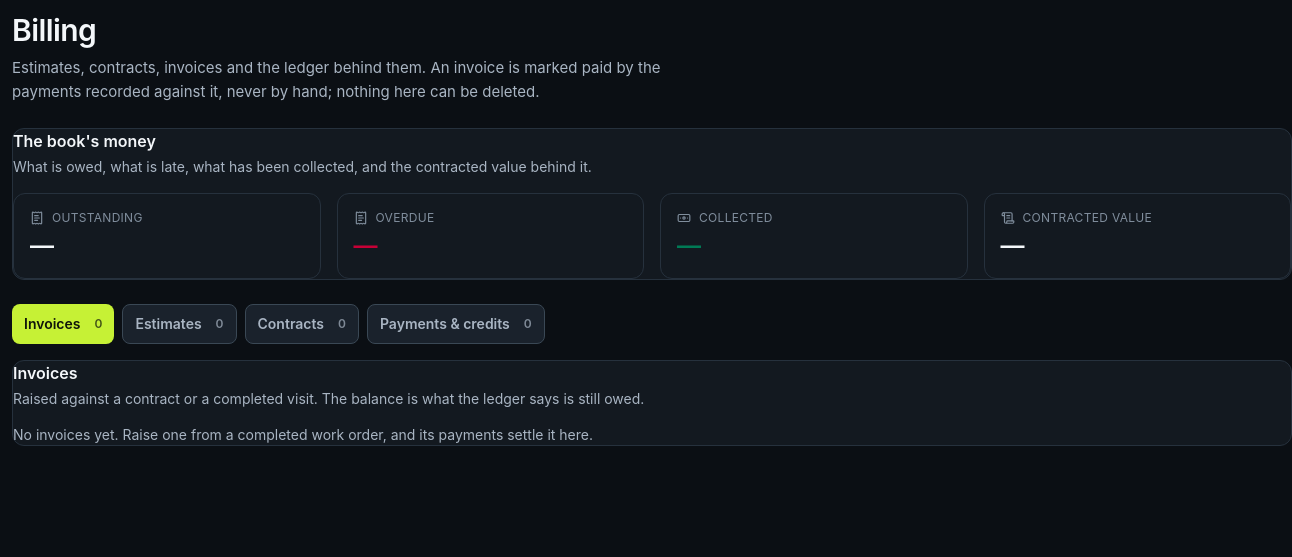
Test case: the accounting export control › says it is a file to import, not a sync to an accounting package
What coordinates should you click on to do the following:
click the tab "Payments & credits 0"
I would click on:
 (456, 324)
Its box is [367,304,545,344].
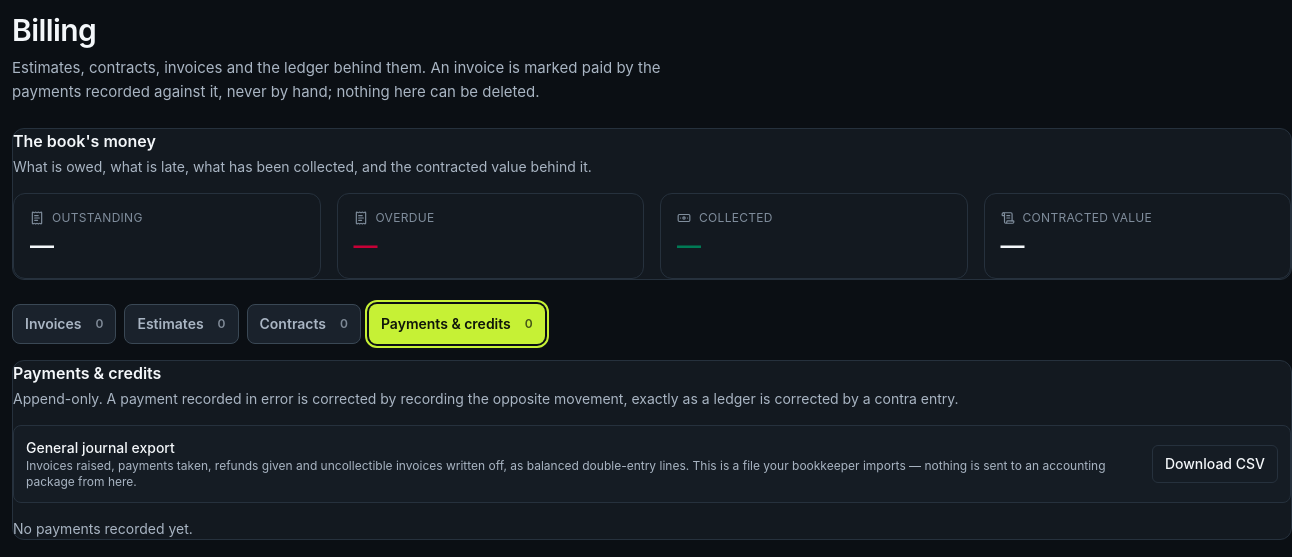
Now the text "nothing is sent to an accounting package from here" is shown, box [26,458,1106,489]
